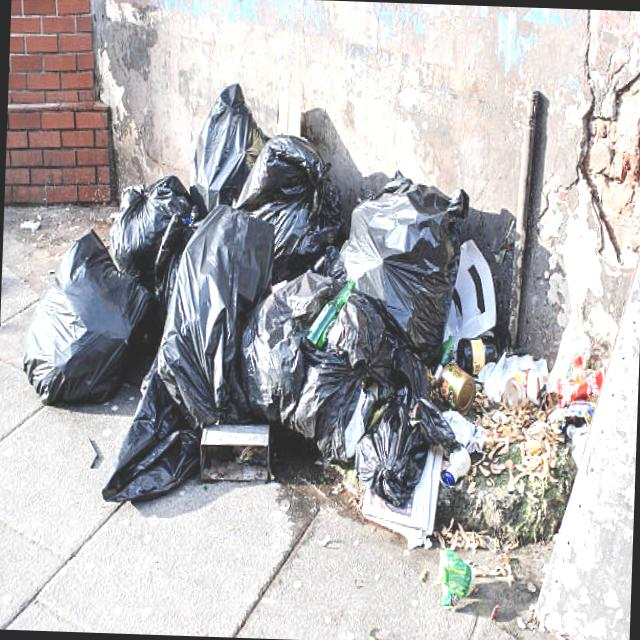garbage: (3, 56, 552, 530)
